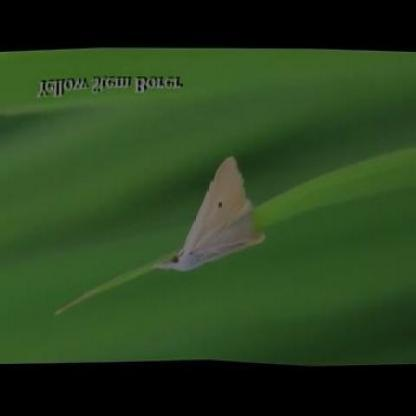stem-borer: (152, 154, 268, 274)
